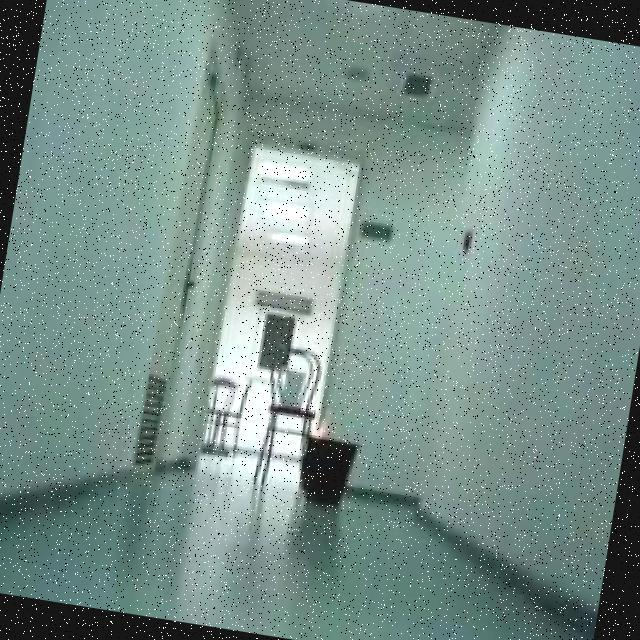Fire: (313, 404, 334, 448)
